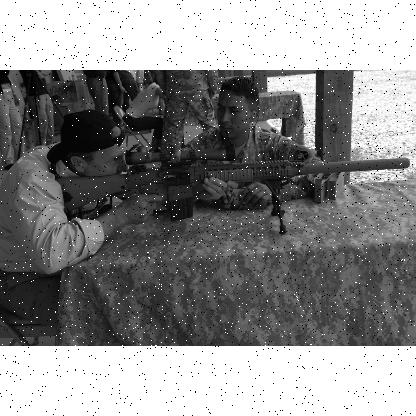gun: (55, 128, 409, 232)
